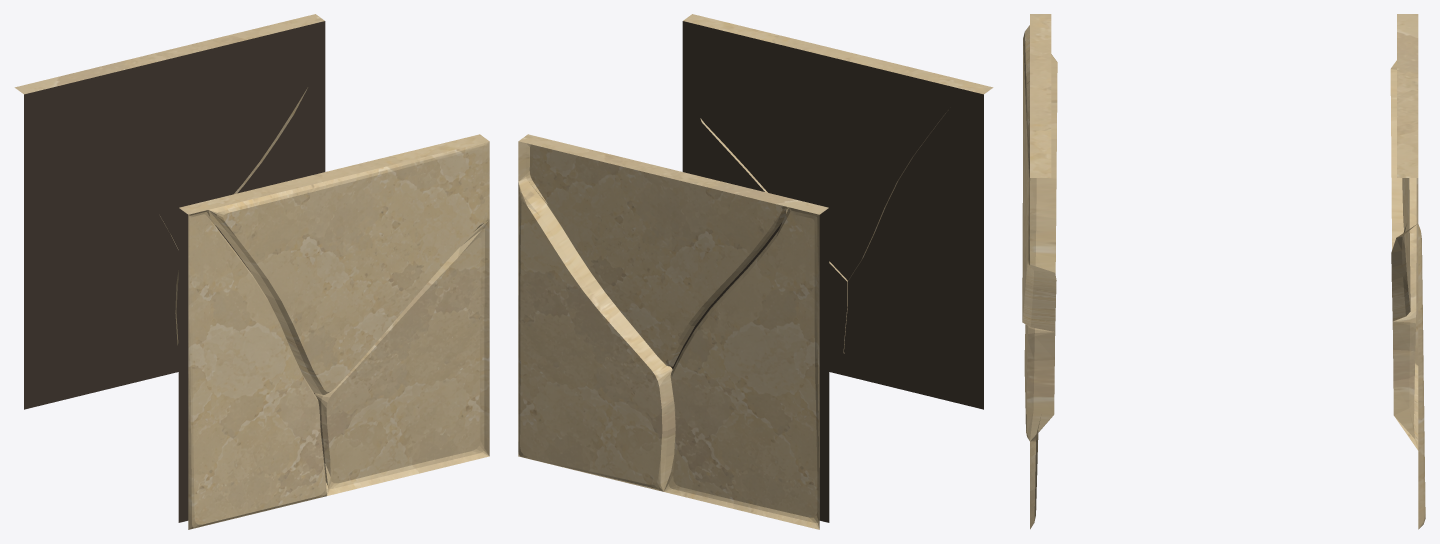
File: ground_square_strip_05.glb
The picture shows the model from 3 angles, left to right: view 1: azimuth 30°, elevation 25°; view 2: azimuth 150°, elevation 25°; view 3: azimuth 270°, elevation 25°; orthographic projection. The views are drawn at different scales.
Visible parts, largest first — view 1: GroundSquareStrip05_Body; view 2: GroundSquareStrip05_Body; view 3: GroundSquareStrip05_Body.
Part boxes in pixels (x1,y1,x2,y2): GroundSquareStrip05_Body: [14, 14, 489, 529]; GroundSquareStrip05_Body: [518, 14, 993, 529]; GroundSquareStrip05_Body: [1022, 14, 1425, 529].
Size of the model in its own units: 1 by 1 by 1.04.
8 materials, 7 textured.
